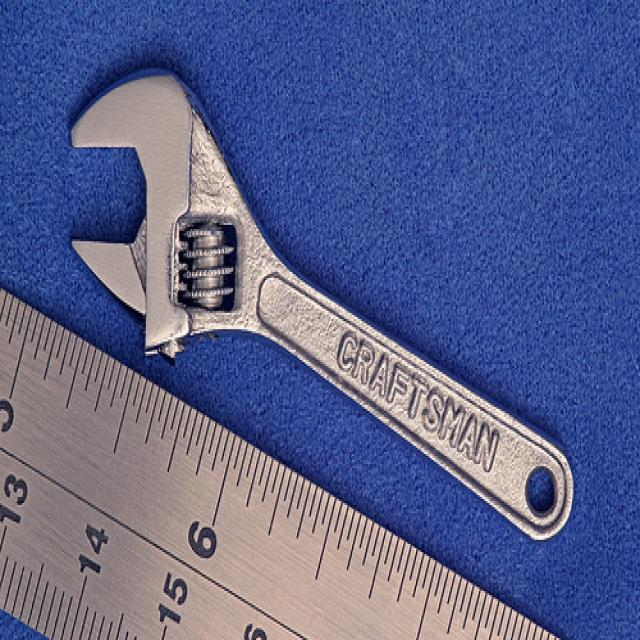wrench: (38, 56, 596, 555)
